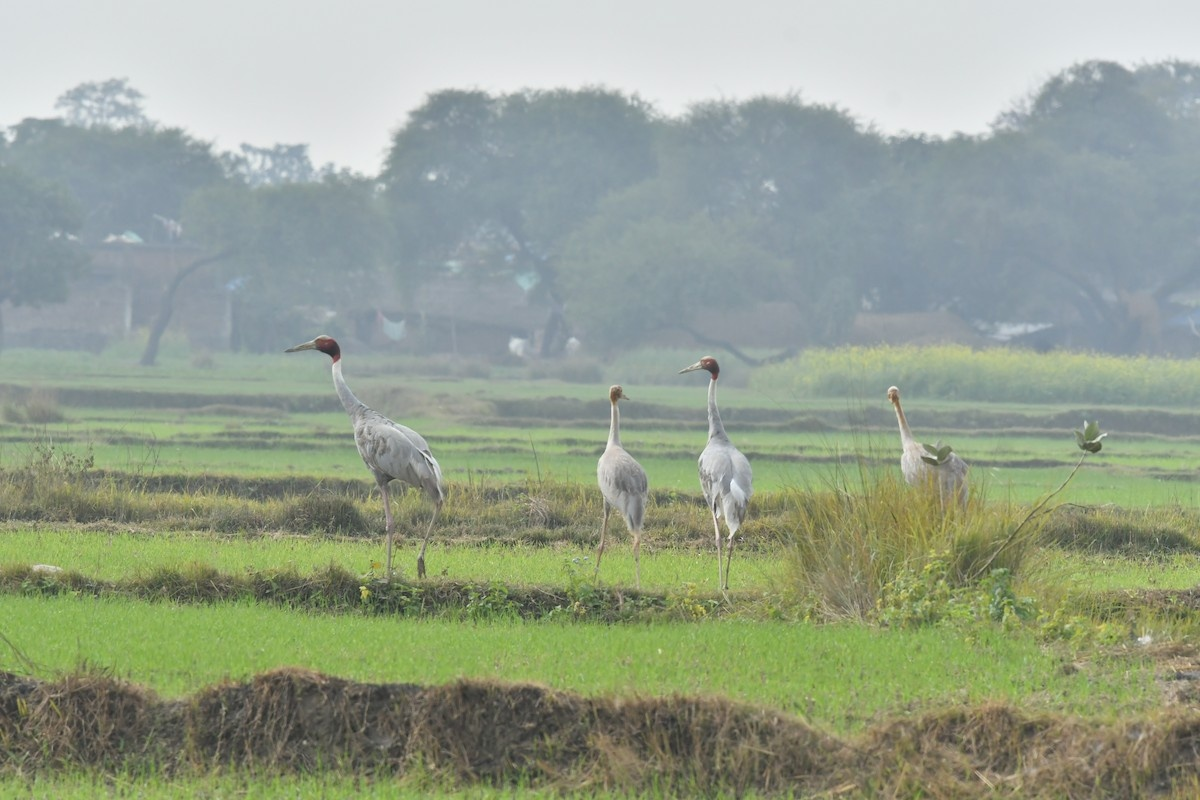crane: (288, 320, 455, 573), (677, 351, 757, 592), (598, 377, 660, 577), (884, 378, 944, 480)
